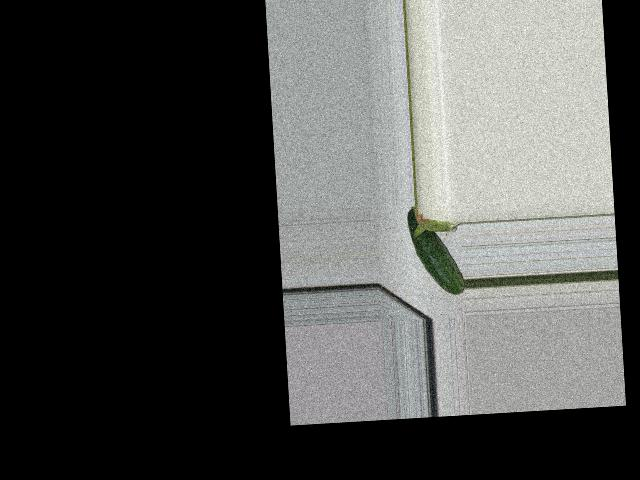cucumber: (407, 204, 465, 297)
